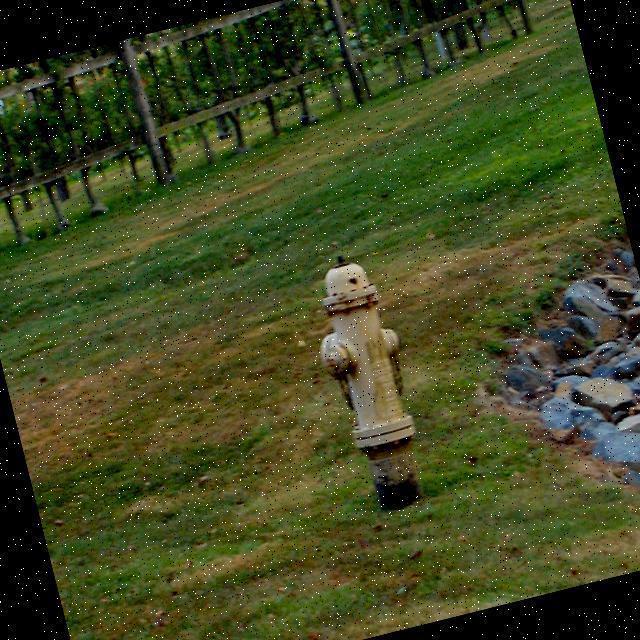fire_hydrant: (300, 241, 441, 522)
